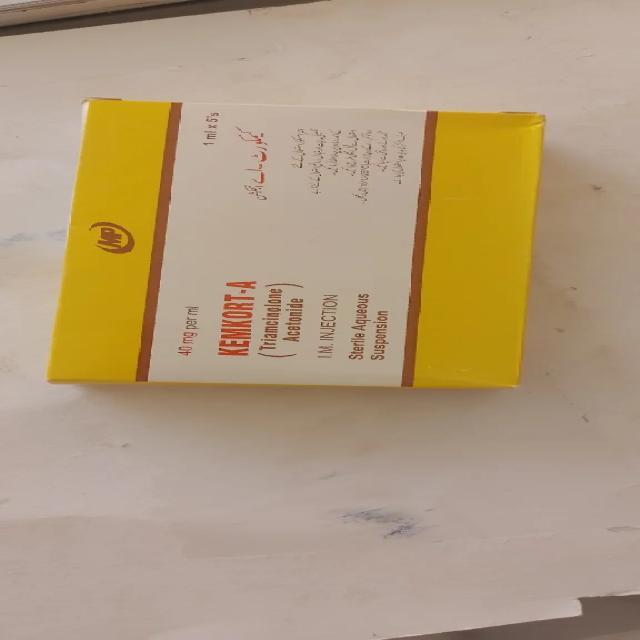drug-name: (210, 275, 262, 358)
